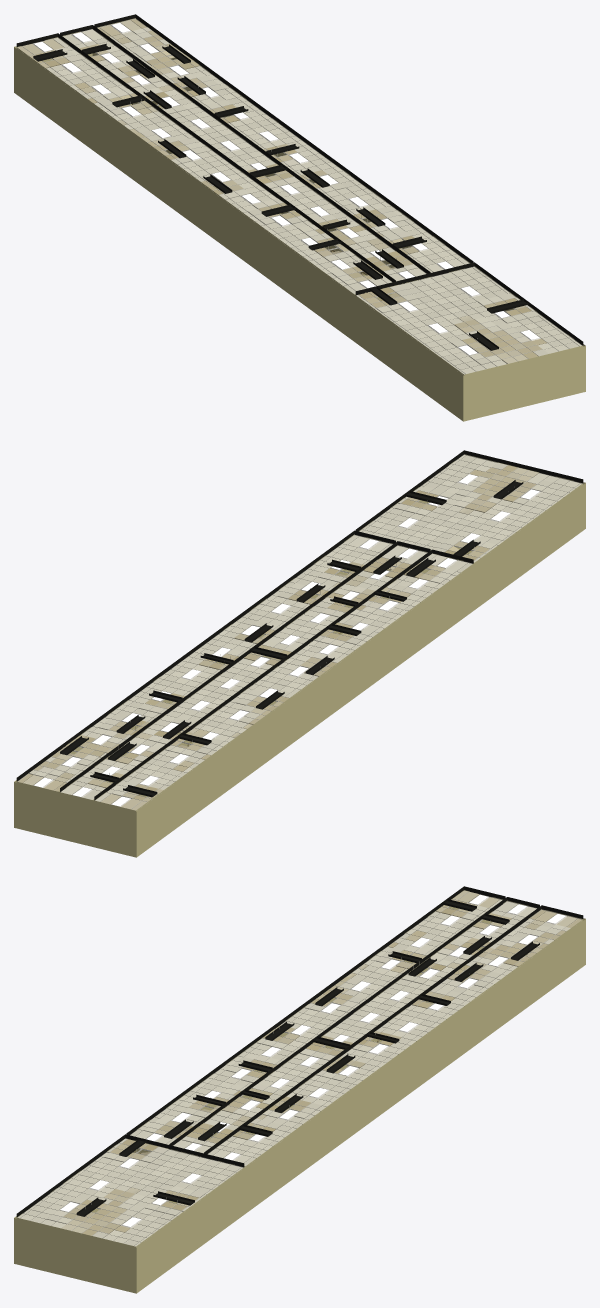
Rendered from set.glb.
3 renders of one model, top to bottom at view 1: azimuth 30°, elevation 25°; view 2: azimuth 150°, elevation 25°; view 3: azimuth 330°, elevation 25°, orthographic.
Parts seen in each view (by area): view 1: ceiling_tile, wall, void, tbar, panel, panel_frame; view 2: ceiling_tile, wall, void, tbar, panel, panel_frame; view 3: ceiling_tile, wall, void, tbar, panel, panel_frame.
Part boxes in pixels (x1,y1,x2,y2): ceiling_tile: [17, 19, 581, 374]; wall: [14, 18, 585, 421]; void: [16, 14, 583, 350]; tbar: [22, 18, 582, 372]; panel: [34, 23, 539, 354]; panel_frame: [33, 25, 540, 355]; ceiling_tile: [18, 455, 581, 810]; wall: [14, 454, 585, 857]; void: [16, 450, 583, 800]; tbar: [17, 454, 583, 809]; panel: [34, 474, 539, 806]; panel_frame: [34, 476, 540, 806]; ceiling_tile: [18, 890, 581, 1246]; wall: [14, 890, 585, 1293]; void: [16, 886, 583, 1217]; tbar: [17, 890, 582, 1245]; panel: [60, 894, 565, 1226]; panel_frame: [60, 897, 566, 1228].
Size of the model in its own units: 14.2 by 5.5 by 90.2.
